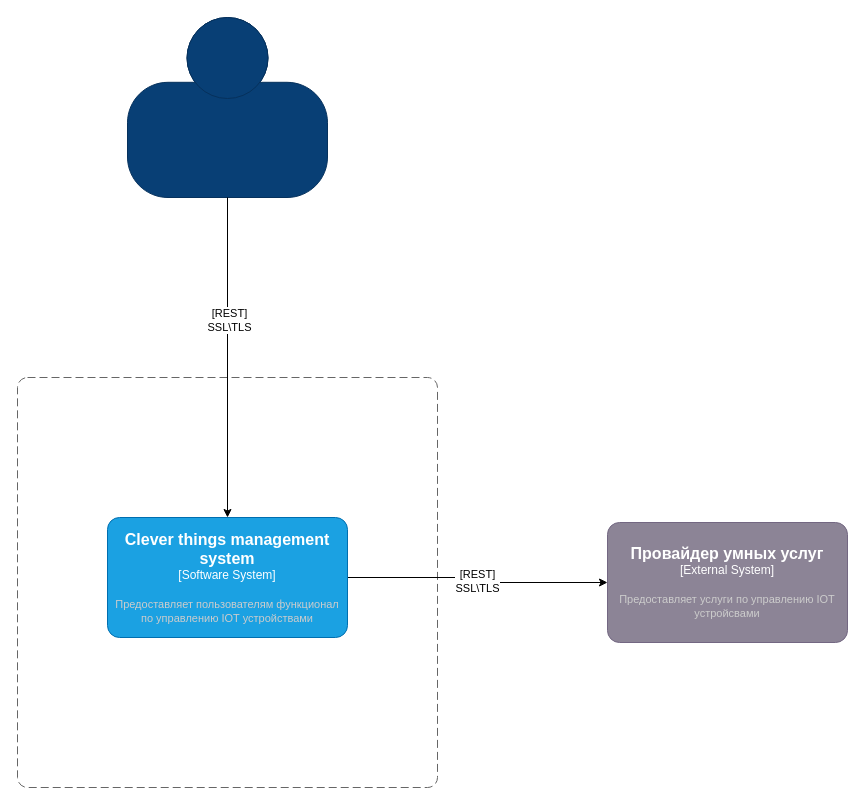
This 865x805 diagram has some shape labels left out. The shapes that lost their labels are listed below. From the top down, each one's box as (x1, y1, x2, y2) in pixels, then its label:
(126, 16, 328, 198): Клиент [Person] Клиент
(16, 376, 438, 788): PropDevelopment [Software System]
